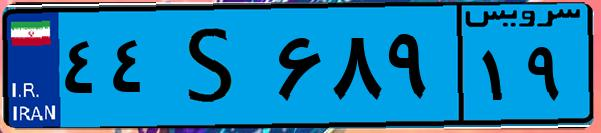1: (475, 38, 525, 113)
4: (57, 26, 110, 100), (110, 28, 158, 98)
6: (270, 28, 330, 110)
8: (330, 28, 385, 110)
9: (385, 28, 445, 110), (525, 38, 570, 115)
S: (158, 12, 270, 120)
